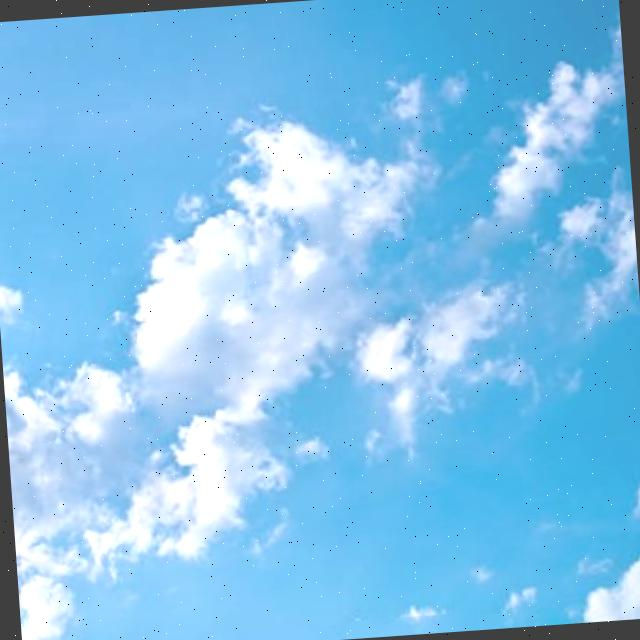Cc: (23, 95, 505, 540)
